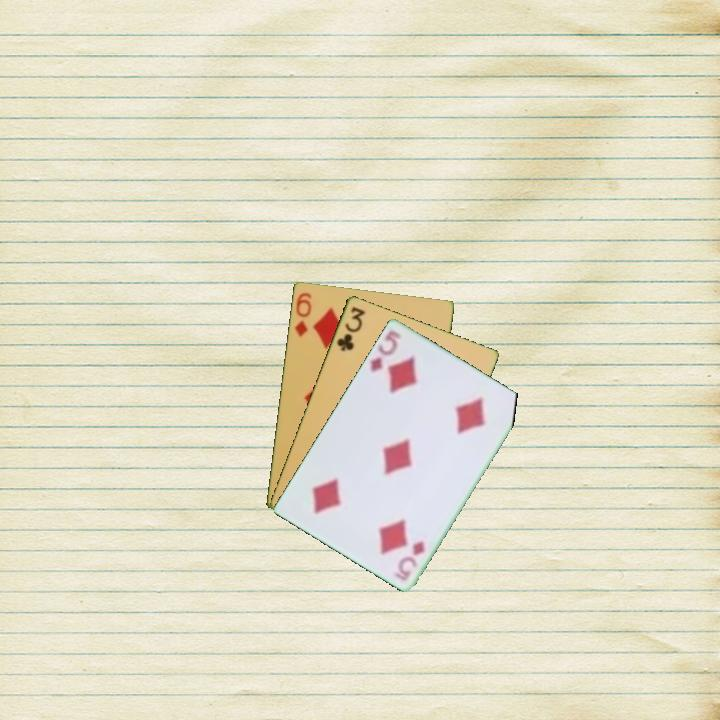3c: (333, 303, 368, 354)
5d: (367, 326, 405, 375), (398, 537, 428, 575)
6d: (291, 289, 314, 339)
